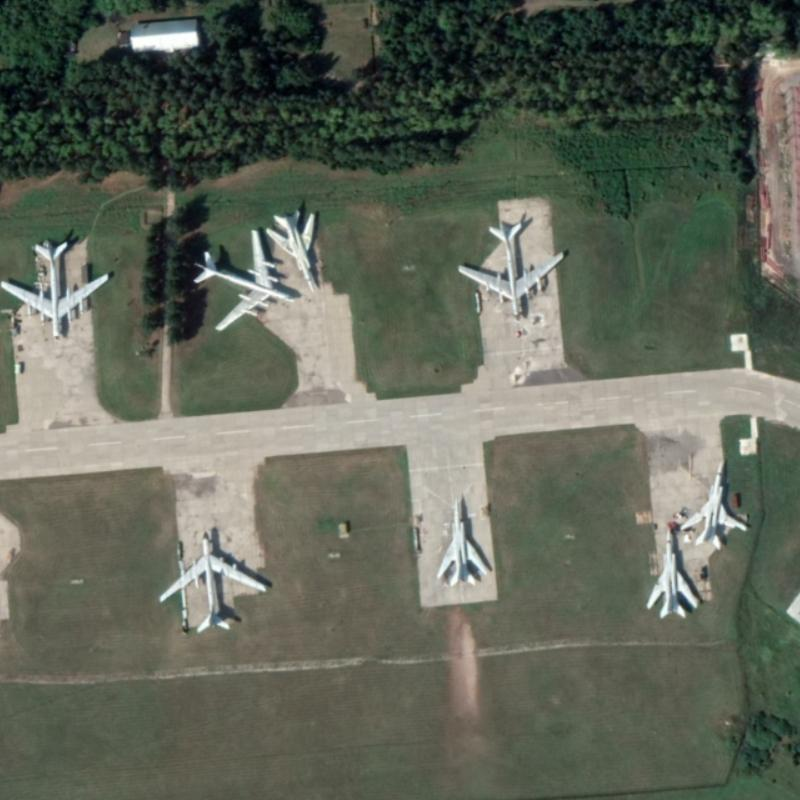A12: (676, 458, 748, 551), (643, 524, 698, 620), (433, 495, 489, 587), (264, 208, 318, 293)
A17: (156, 528, 267, 633), (0, 238, 109, 341), (456, 218, 565, 321), (191, 227, 295, 332)
